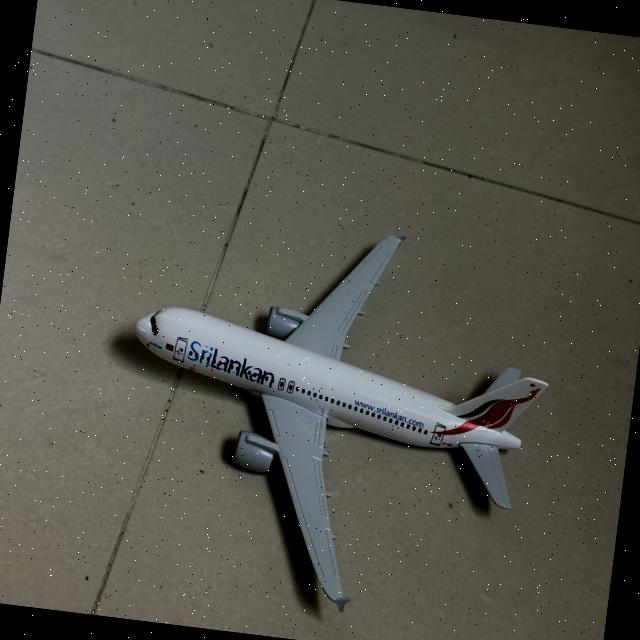air-plane: (135, 236, 547, 610)
